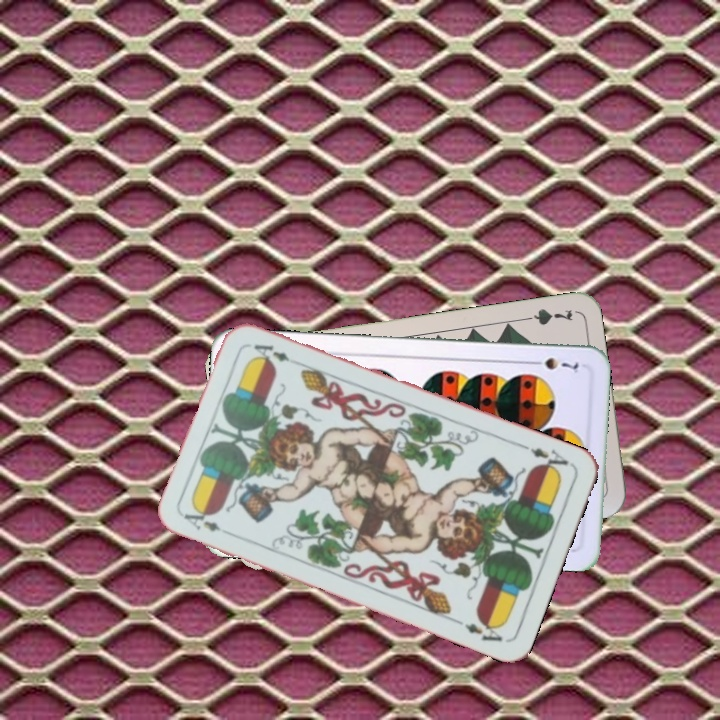EA: (517, 440, 571, 476), (179, 505, 236, 539)
G7: (516, 304, 575, 328)
S7: (525, 353, 581, 373)
